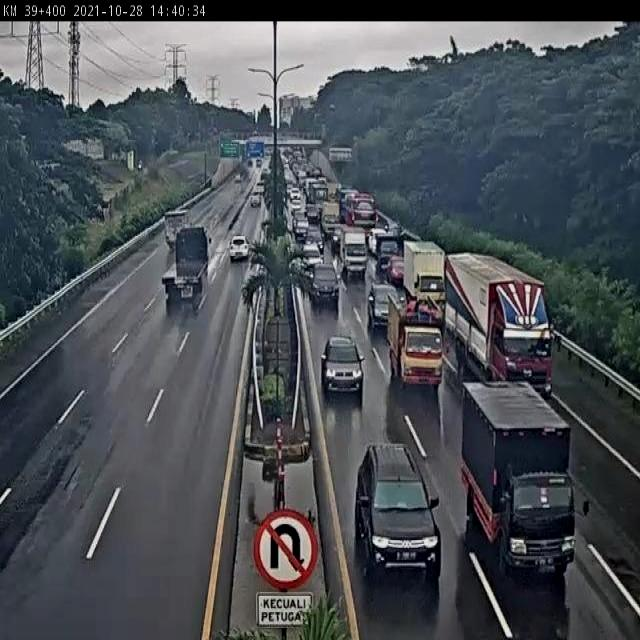Car: (353, 444, 441, 583), (321, 334, 365, 399), (306, 262, 340, 311), (367, 283, 401, 331), (228, 236, 250, 261), (292, 215, 310, 242), (250, 194, 260, 207), (256, 180, 265, 193), (234, 174, 242, 183), (256, 158, 262, 167), (248, 159, 253, 167)
Truck: (457, 378, 572, 580), (444, 251, 553, 398), (385, 292, 444, 390), (161, 224, 210, 313), (403, 241, 446, 312), (341, 229, 368, 279), (321, 200, 341, 240)
